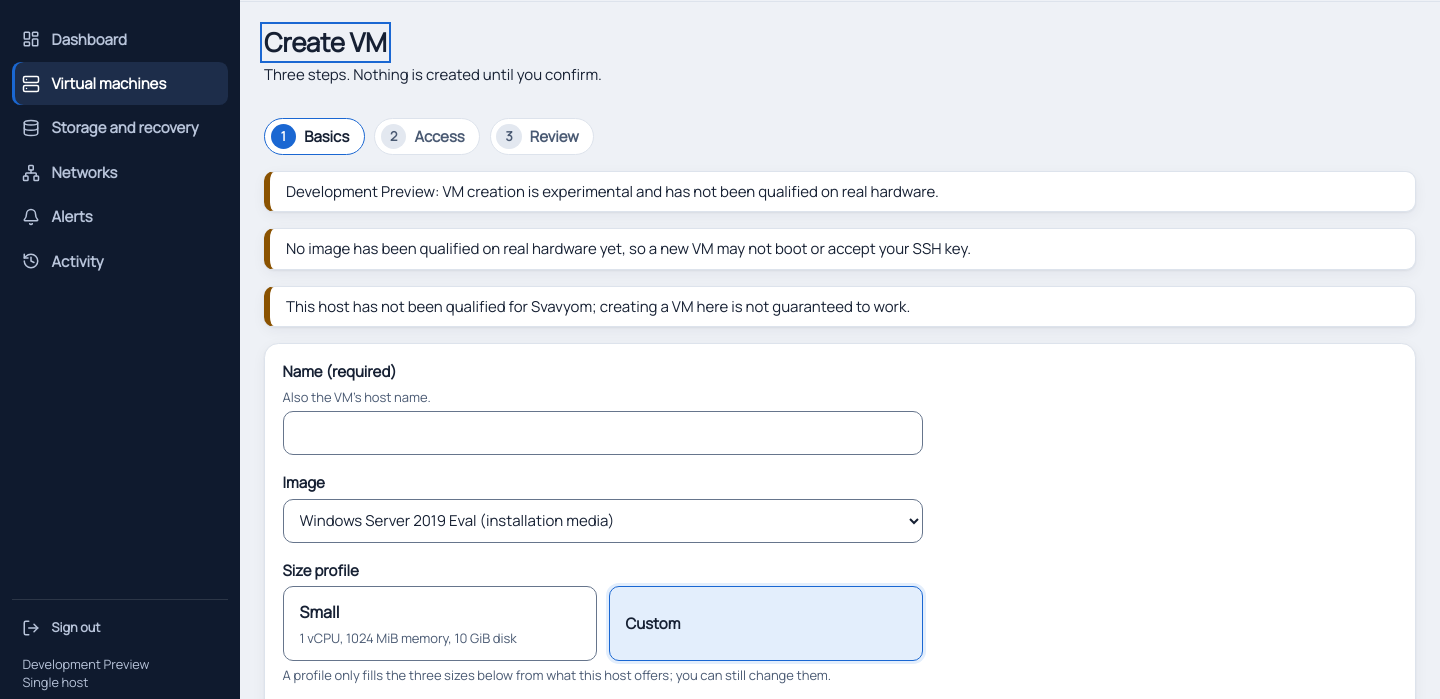
Test: installation media (M6-E01-S06) › offers no 'stopped' notice or VM link when the create failed
The width and height of the screenshot is (1440, 699).
Step 1. Type "win-1" into the field labelled "Name (required)" → {"x": 603, "y": 433}, box [283, 411, 923, 455]
(page scrolled)
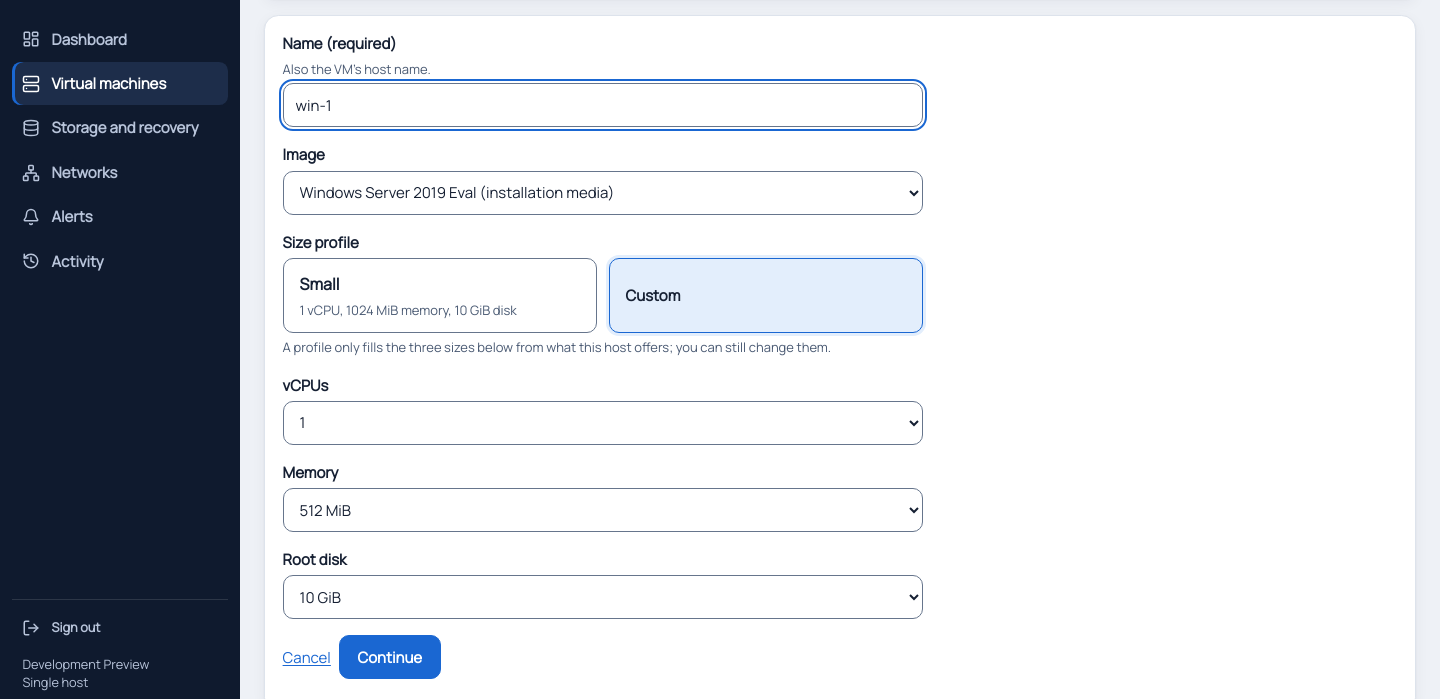
Step 2. Click the button "Continue" → {"x": 390, "y": 657}, box [339, 635, 441, 679]
(page scrolled)
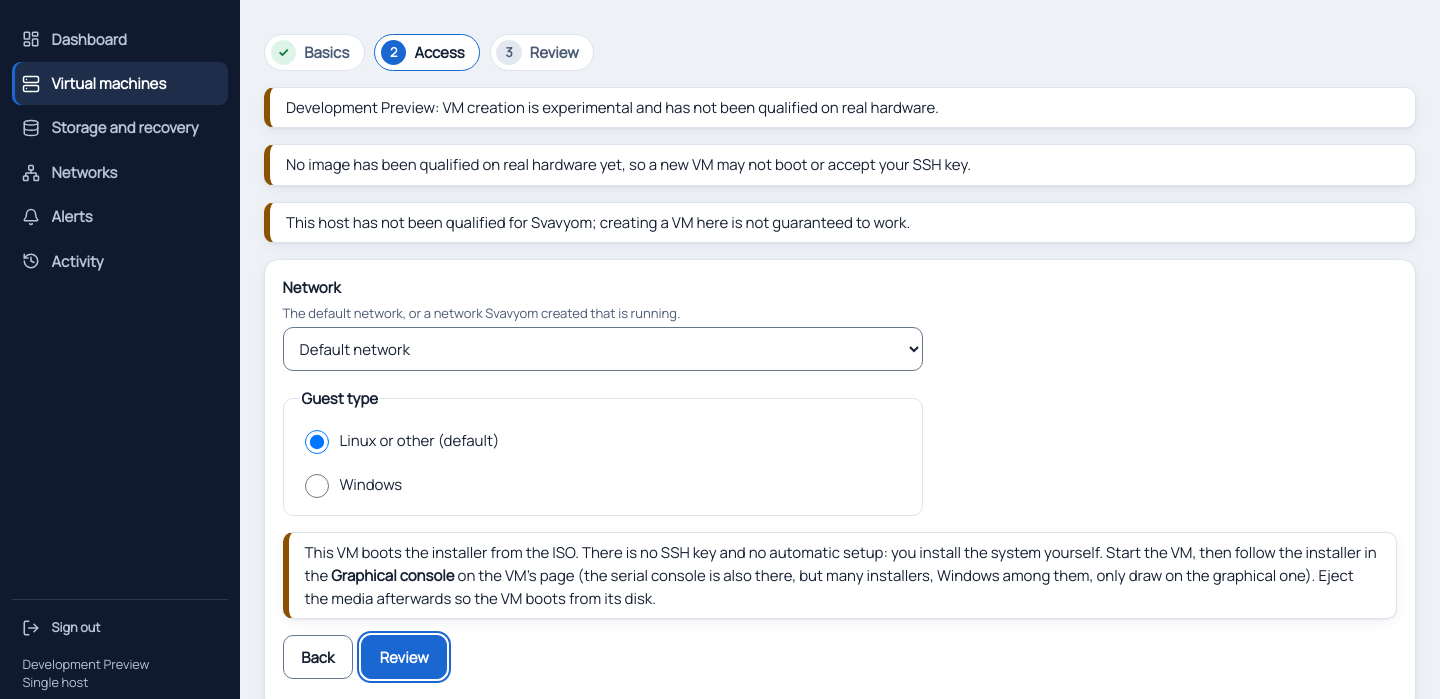
Step 3. Click the button "Review" → {"x": 404, "y": 657}, box [361, 635, 447, 679]
(page scrolled)
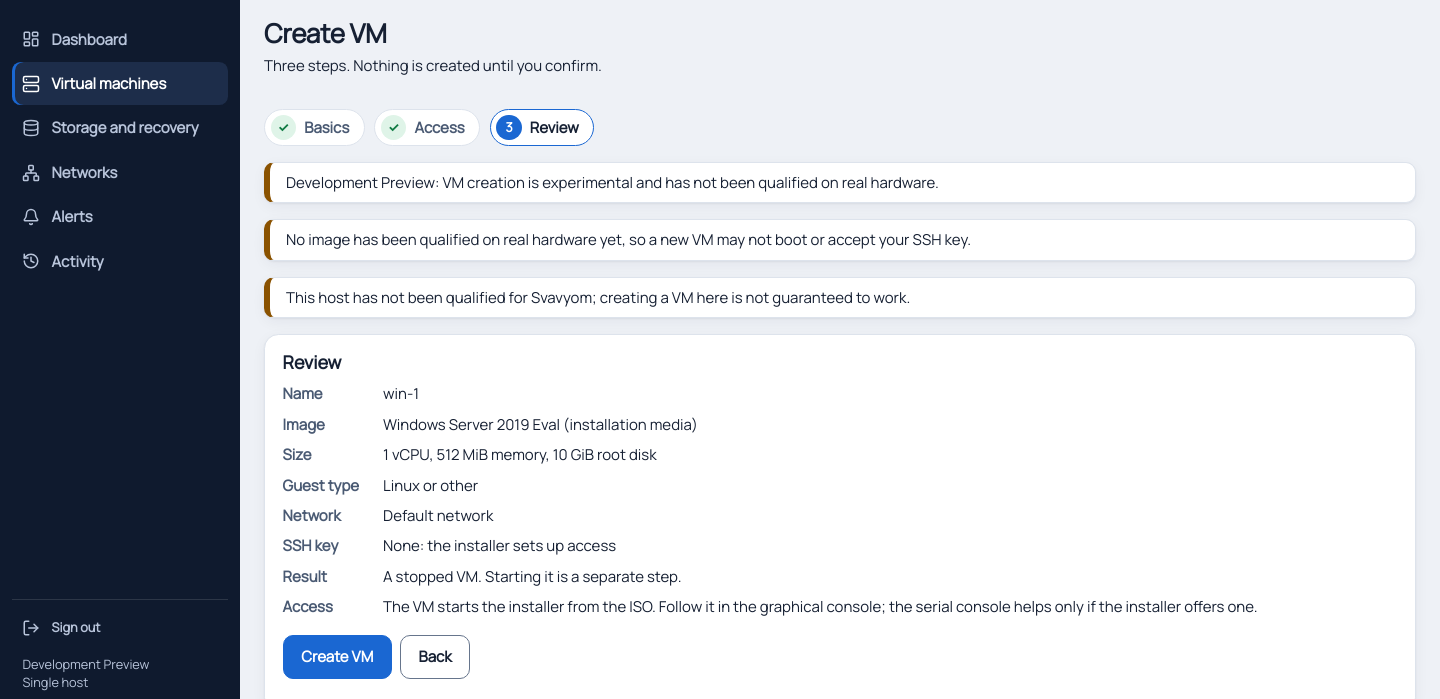
Step 4. Click the button "Create VM" → {"x": 337, "y": 657}, box [283, 635, 392, 679]
(page scrolled)
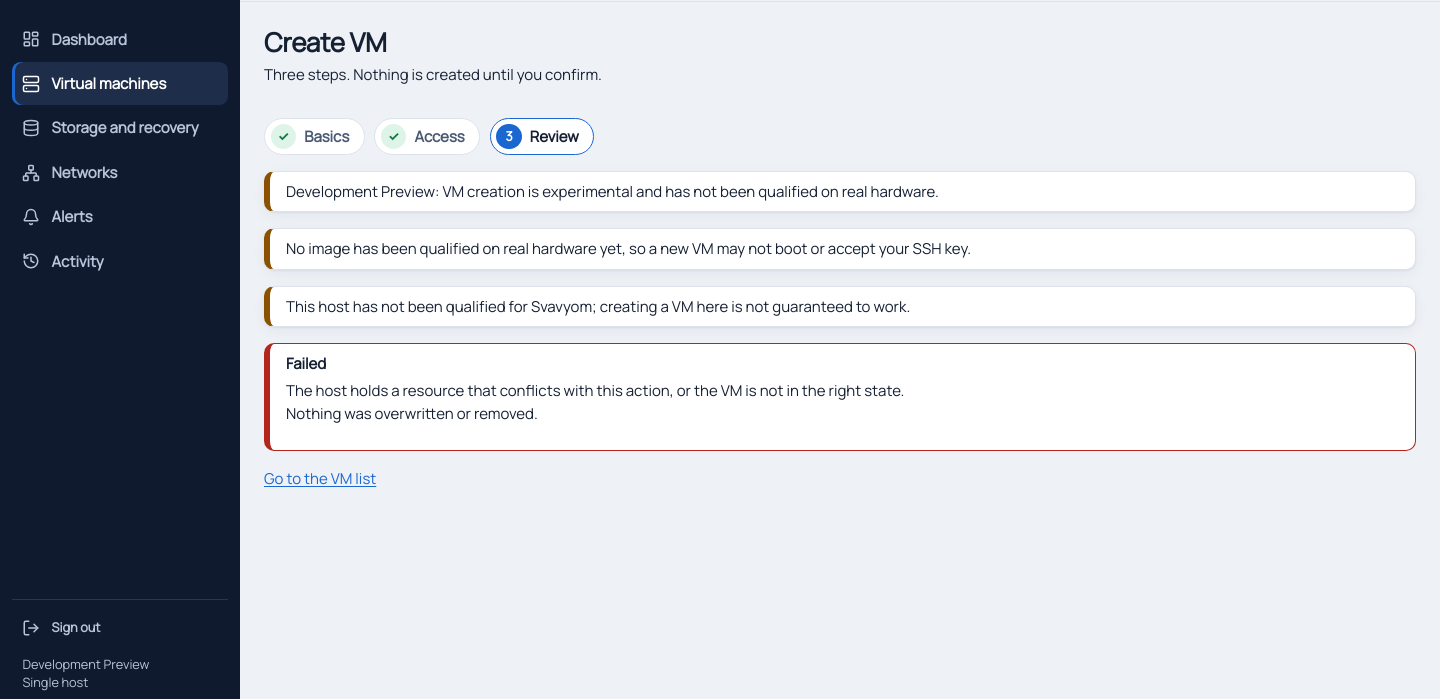
Result: the link "Go to the VM list" is shown at [264, 467, 376, 490]
